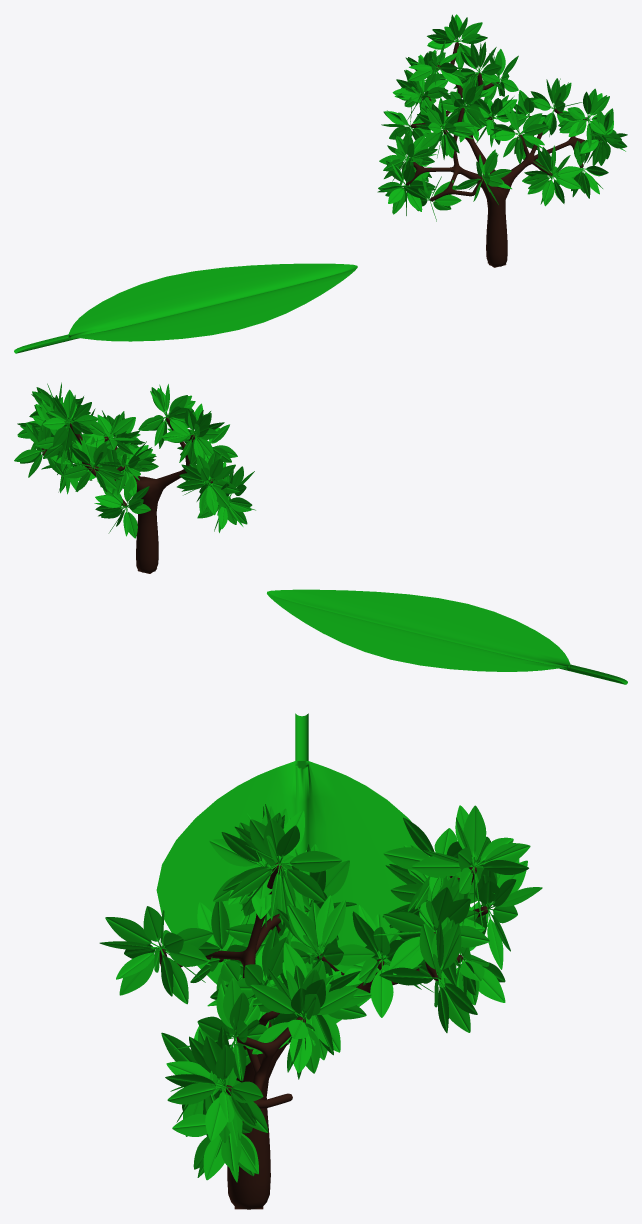
File: treeColoured.fbx
3 renders of one model, top to bottom at view 1: azimuth 30°, elevation 25°; view 2: azimuth 150°, elevation 25°; view 3: azimuth 270°, elevation 25°, orthographic. The views are drawn at different scales.
Visible parts, largest first — view 1: Plane.001, Plane; view 2: Plane.001, Plane; view 3: Plane.001, Plane, Plane|Plane.001|Dupli|215, Plane|Plane.001|Dupli|635, Plane|Plane.001|Dupli|570, Plane|Plane.001|Dupli|1, Plane|Plane.001|Dupli|773, Plane|Plane.001|Dupli|374, Plane|Plane.001|Dupli|911, Plane|Plane.001|Dupli|156.
Part boxes in pixels (left/top/right/bottom): Plane.001: left=14, top=263, right=357, bottom=353; Plane: left=405, top=42, right=600, bottom=267; Plane.001: left=267, top=589, right=627, bottom=684; Plane: left=42, top=417, right=223, bottom=573; Plane.001: left=156, top=713, right=433, bottom=1023; Plane: left=158, top=862, right=488, bottom=1209; Plane|Plane.001|Dupli|215: left=280, top=851, right=341, bottom=872; Plane|Plane.001|Dupli|635: left=250, top=984, right=302, bottom=1017; Plane|Plane.001|Dupli|570: left=463, top=805, right=486, bottom=865; Plane|Plane.001|Dupli|1: left=370, top=960, right=393, bottom=1017; Plane|Plane.001|Dupli|773: left=105, top=917, right=159, bottom=947; Plane|Plane.001|Dupli|374: left=280, top=864, right=325, bottom=902; Plane|Plane.001|Dupli|911: left=412, top=856, right=472, bottom=878; Plane|Plane.001|Dupli|156: left=167, top=1083, right=224, bottom=1104.
Size of what is drawn, in the model's own units: 1680 by 553 by 543.
